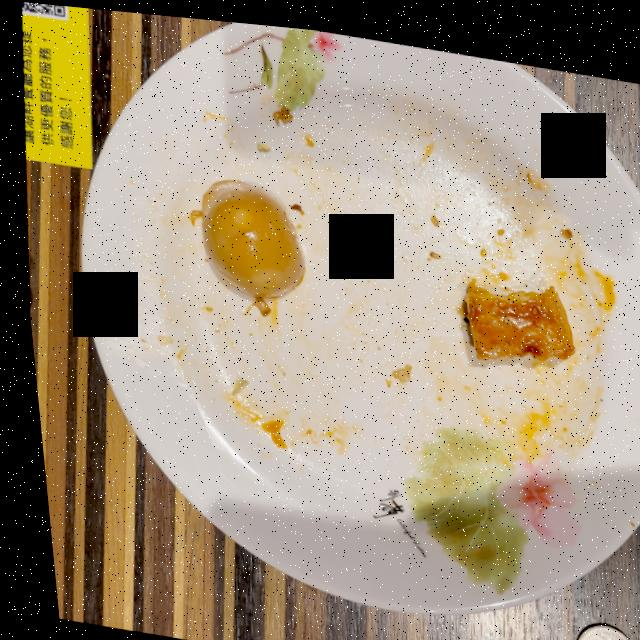coin: (564, 613, 623, 640)
creamy tofu: (457, 272, 569, 350)
soy egg: (197, 174, 298, 292)
